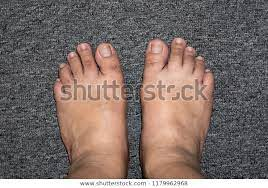feet: (45, 41, 135, 160), (142, 37, 217, 171)
